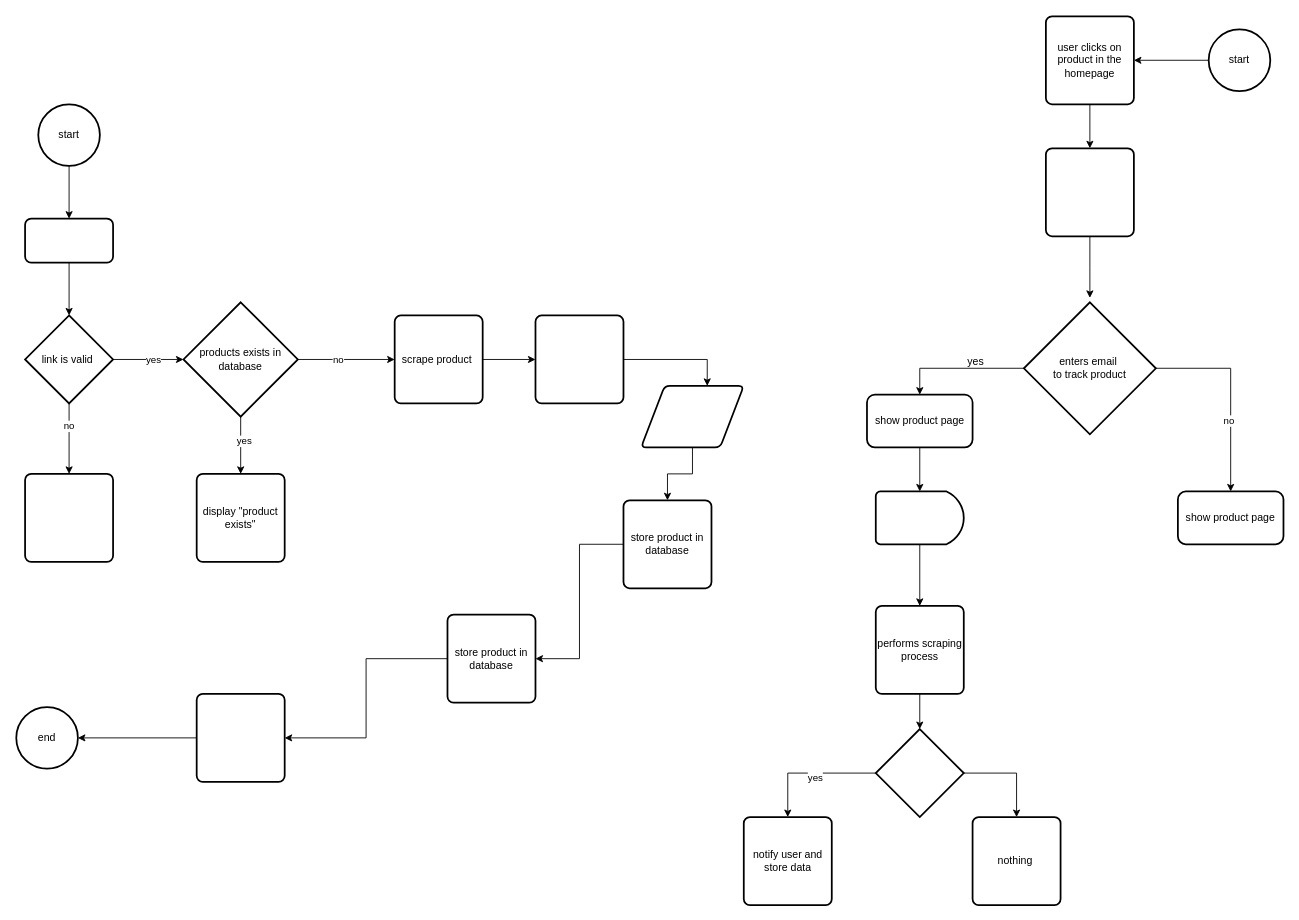
Image size: 1299x920. Some labels were removed from this diagram. The centre of each missing label's shape, as x and y in pixels:
"delays to scrape until next day" goes at (919,517).
"display product in homepage" goes at (240,737).
"display product not found" goes at (69,517).
"extract product details" goes at (579,359).
"get redirected to product page" goes at (1089,192).
"product details" goes at (692,416).
"product details changed" goes at (919,773).
"user enters link" goes at (69,240).
